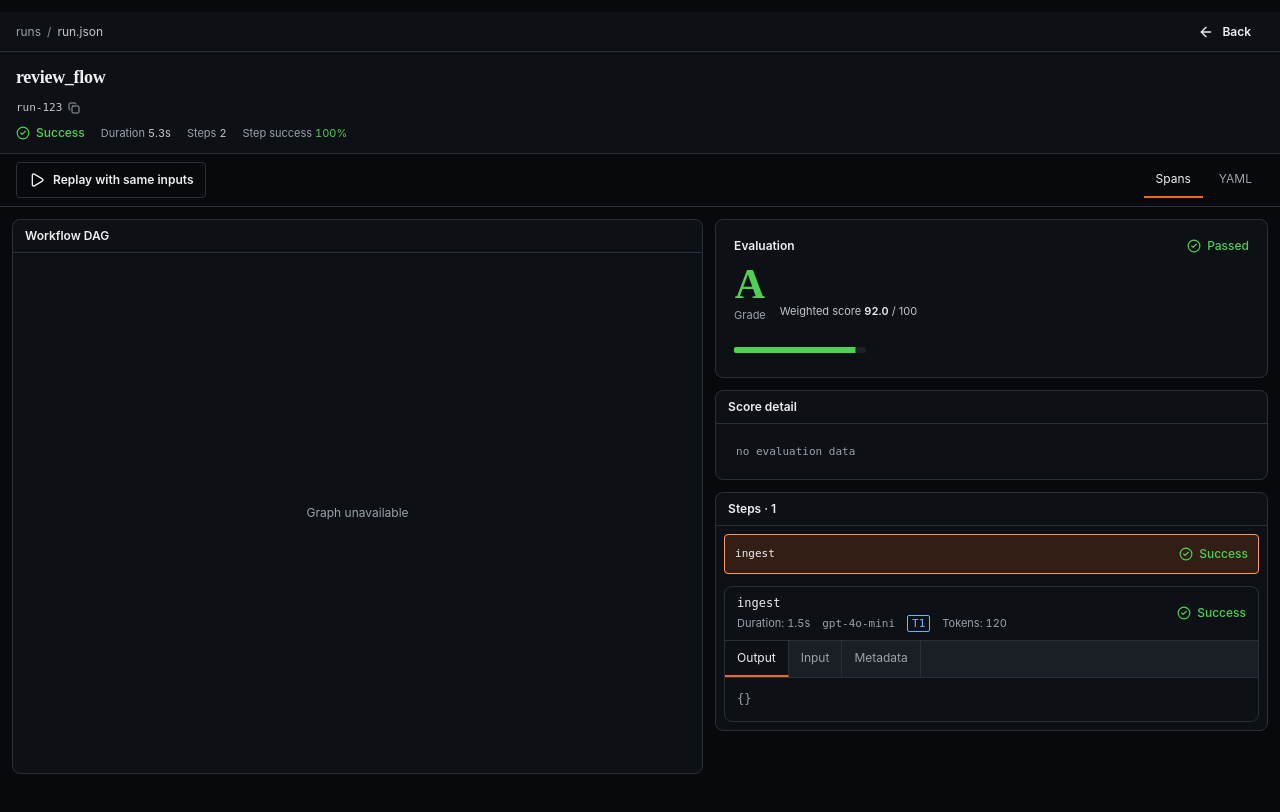
Scenario: RunDetailPage › shows the workflow yaml on the yaml tab
The width and height of the screenshot is (1280, 812).
Click the tab "YAML" at coordinates (1235, 180), box [1207,162,1264,198]
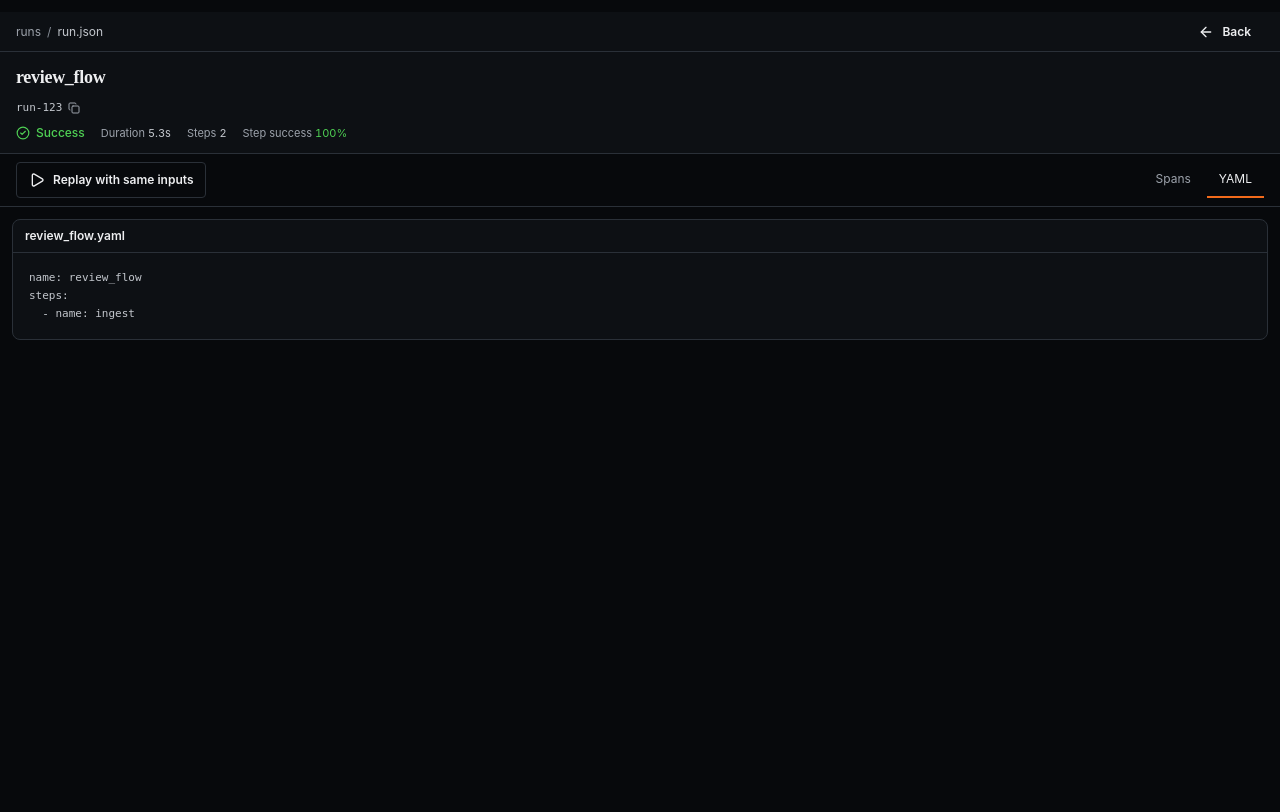
Check: the text "name: review_flow steps: - name: ingest" is shown, box [29,271,142,320]
